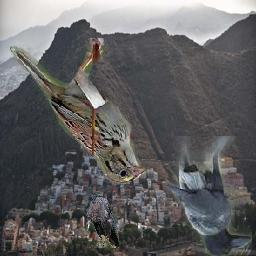Crow: (166, 136, 253, 256), (85, 196, 119, 248)
Sparrow: (11, 38, 148, 184)
